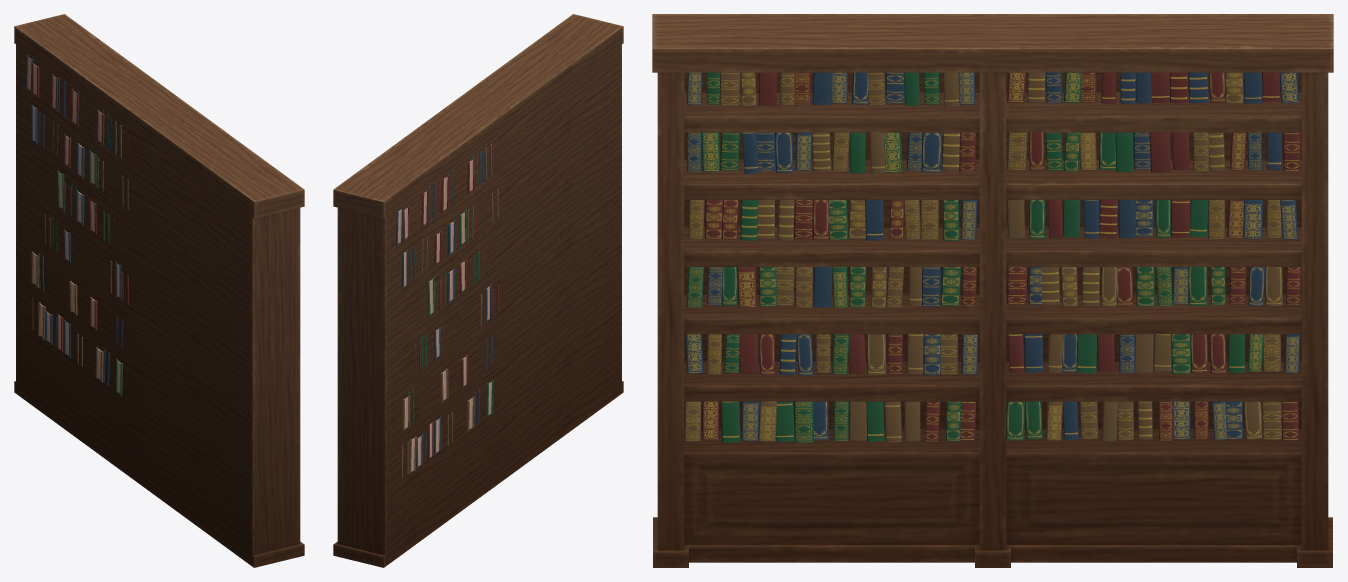
Rendered from book_shelf.glb.
The picture shows the model from 3 angles, left to right: view 1: azimuth 30°, elevation 25°; view 2: azimuth 150°, elevation 25°; view 3: azimuth 270°, elevation 25°; orthographic projection. The views are drawn at different scales.
Parts seen in each view (by area): view 1: bookshelf; view 2: bookshelf; view 3: bookshelf.
Part boxes in pixels (bbox=[...]): bookshelf: bbox=[14, 14, 304, 567]; bookshelf: bbox=[333, 14, 623, 567]; bookshelf: bbox=[652, 14, 1333, 567].
Bounding box in the file's own units: 0.485 × 3.25 × 3.87.
Materials: 2 (2 with a texture image).
